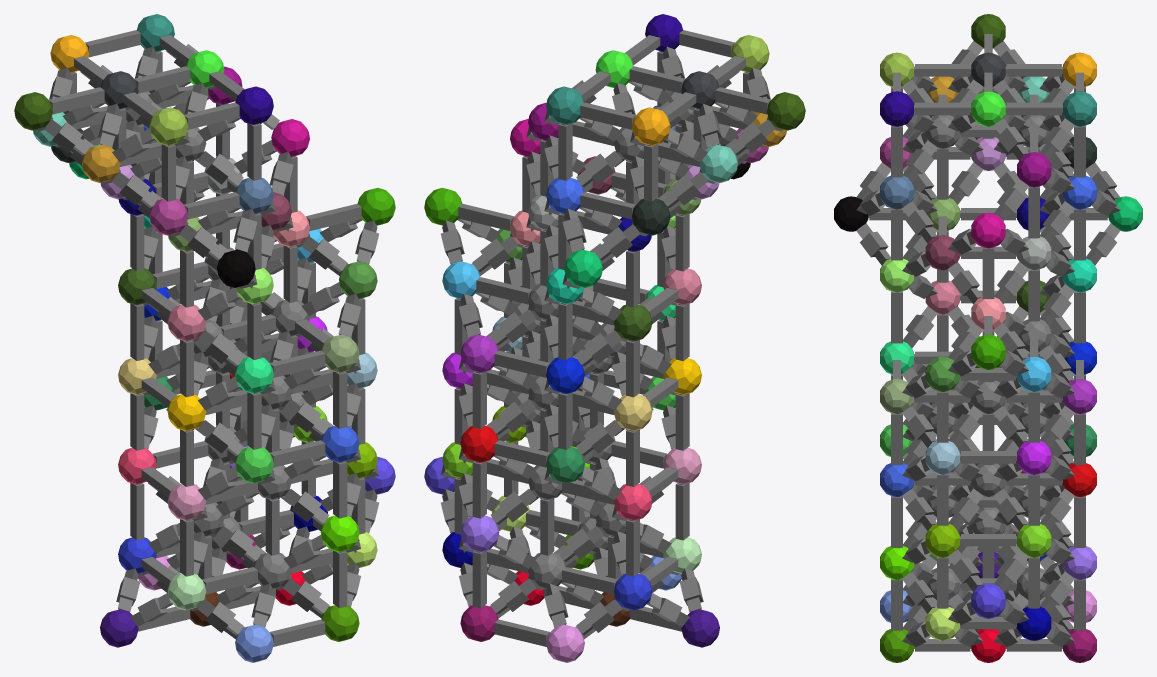
The model's file is fake_1500_10000(colorful).obj.
The picture shows the model from 3 angles, left to right: view 1: azimuth 30°, elevation 25°; view 2: azimuth 150°, elevation 25°; view 3: azimuth 270°, elevation 25°; orthographic projection. The views are drawn at different scales.
Bounding box in the file's own units: 207 × 301 × 160.
